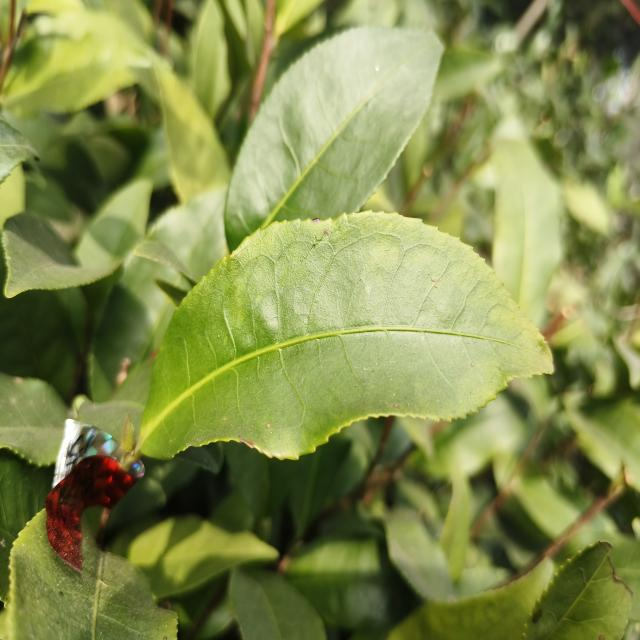Leaf: (142, 212, 553, 458), (225, 26, 443, 250), (7, 510, 177, 640), (2, 3, 158, 116), (90, 254, 192, 400), (138, 56, 230, 201), (387, 560, 552, 640), (491, 138, 561, 325), (128, 515, 278, 599), (285, 538, 415, 629), (523, 542, 632, 640), (2, 213, 120, 298), (427, 394, 526, 476), (146, 190, 227, 281), (230, 567, 326, 640), (76, 178, 152, 266), (568, 399, 640, 491), (0, 372, 67, 466), (385, 512, 451, 597), (189, 0, 231, 119), (434, 48, 502, 101), (439, 472, 471, 582)
